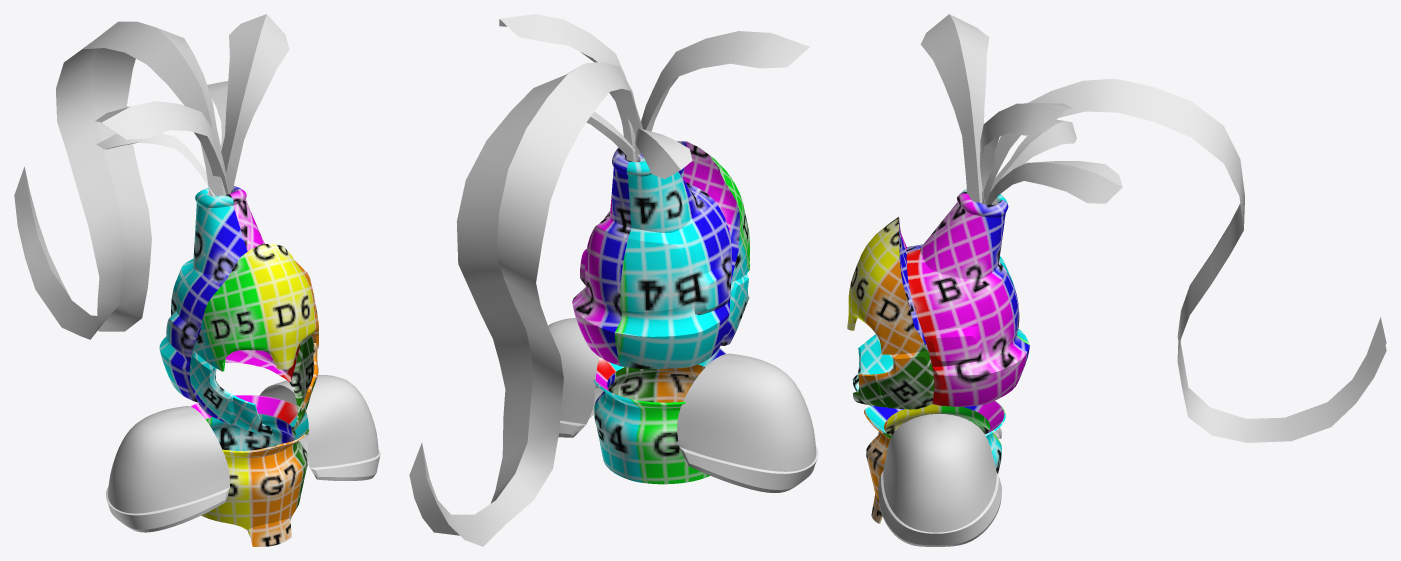
The model's file is Knight_Low.FBX.
3 renders of one model, left to right at view 1: azimuth 30°, elevation 25°; view 2: azimuth 150°, elevation 25°; view 3: azimuth 270°, elevation 25°, orthographic. The views are drawn at different scales.
Visible parts, largest first — view 1: Plane001, Helmet_Low, Shoulder Pauldron, Armor_Low, Feather002, Feather, Feather003, Feather001; view 2: Plane001, Helmet_Low, Shoulder Pauldron, Armor_Low, Feather, Feather002, Feather003, Feather001; view 3: Helmet_Low, Plane001, Shoulder Pauldron, Feather, Armor_Low, Feather001, Feather002, Feather003.
Part boxes in pixels (<box>): Plane001: <box>14,21,228,339</box>; Helmet_Low: <box>159,186,318,436</box>; Shoulder Pauldron: <box>106,375,380,532</box>; Armor_Low: <box>190,395,309,546</box>; Feather002: <box>221,14,289,193</box>; Feather: <box>95,101,229,194</box>; Feather003: <box>96,133,214,195</box>; Feather001: <box>207,81,228,195</box>; Plane001: <box>409,62,642,546</box>; Helmet_Low: <box>572,141,749,368</box>; Shoulder Pauldron: <box>548,318,818,492</box>; Armor_Low: <box>593,348,725,484</box>; Feather: <box>636,31,809,161</box>; Feather002: <box>499,14,636,161</box>; Feather003: <box>635,128,692,179</box>; Feather001: <box>586,111,644,161</box>; Helmet_Low: <box>847,189,1029,409</box>; Plane001: <box>979,78,1386,442</box>; Shoulder Pauldron: <box>878,414,1001,546</box>; Feather: <box>920,14,989,203</box>; Armor_Low: <box>864,401,1005,523</box>; Feather001: <box>987,161,1122,204</box>; Feather002: <box>980,103,1073,204</box>; Feather003: <box>994,120,1076,184</box>.
Bounding box in the file's own units: 45.45 × 71.92 × 78.67.
Materials: 1 (1 with a texture image).
